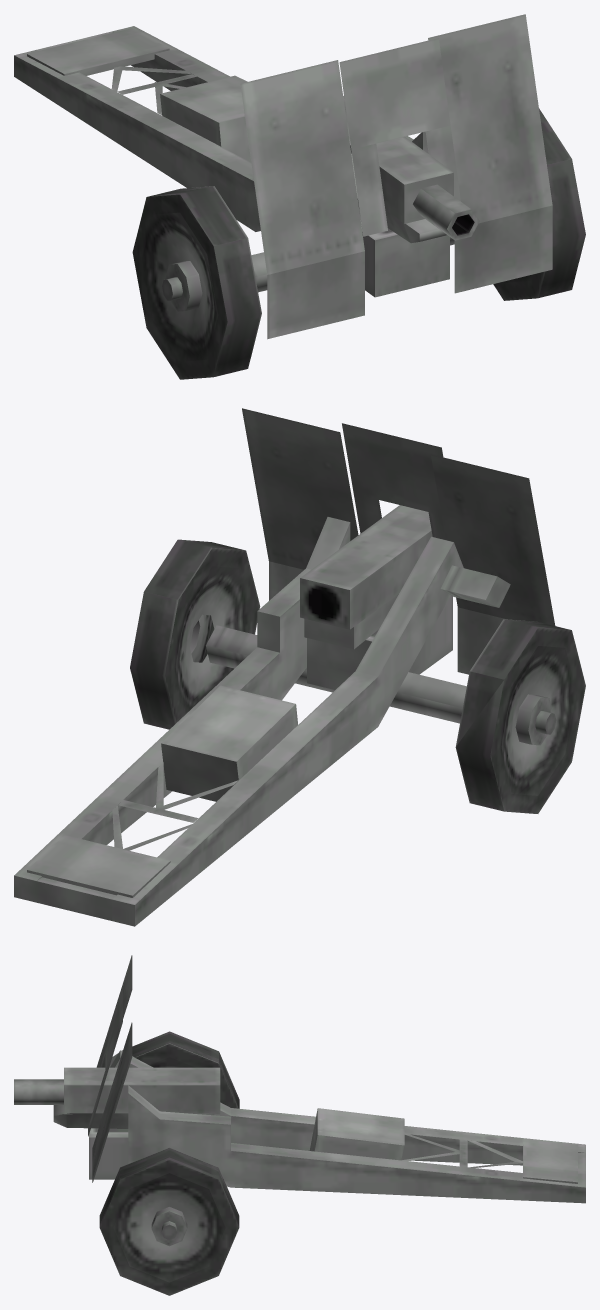
File: GERleIG18.dae
3 views of the same model, one above another, from view 1: azimuth 30°, elevation 25°; view 2: azimuth 150°, elevation 25°; view 3: azimuth 270°, elevation 25° (orthographic). The views are drawn at different scales.
Visible parts, largest first — view 1: carriage, wheels, sleeve, barrel; view 2: carriage, wheels, barrel, sleeve; view 3: carriage, wheels, barrel, sleeve.
Part boxes in pixels (bbox=[...]): carriage: bbox=[14, 14, 552, 339]; wheels: bbox=[132, 108, 585, 379]; sleeve: bbox=[339, 38, 460, 243]; barrel: bbox=[343, 95, 479, 240]; carriage: bbox=[14, 408, 555, 926]; wheels: bbox=[130, 539, 585, 813]; barrel: bbox=[300, 505, 432, 629]; sleeve: bbox=[304, 423, 445, 649]; carriage: bbox=[89, 955, 585, 1203]; wheels: bbox=[99, 1031, 239, 1295]; barrel: bbox=[14, 1067, 220, 1114]; sleeve: bbox=[53, 987, 214, 1136].
Bounding box in the file's own units: 12.83 × 22.57 × 9.9.
